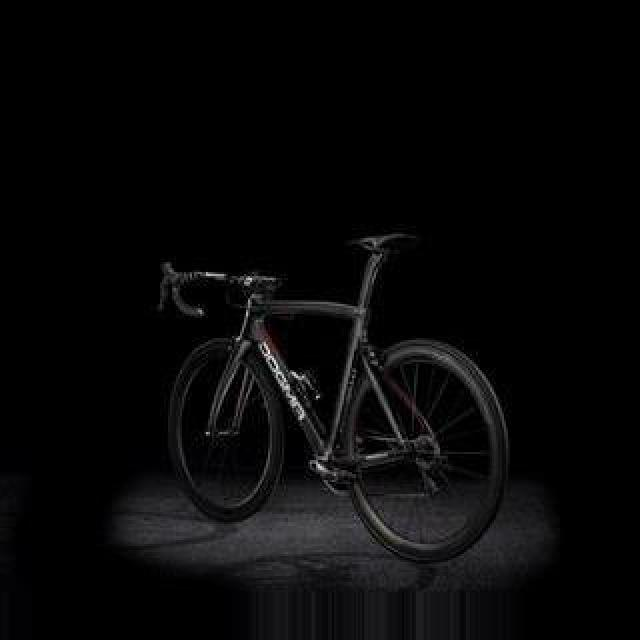Person: (160, 238, 516, 564)
